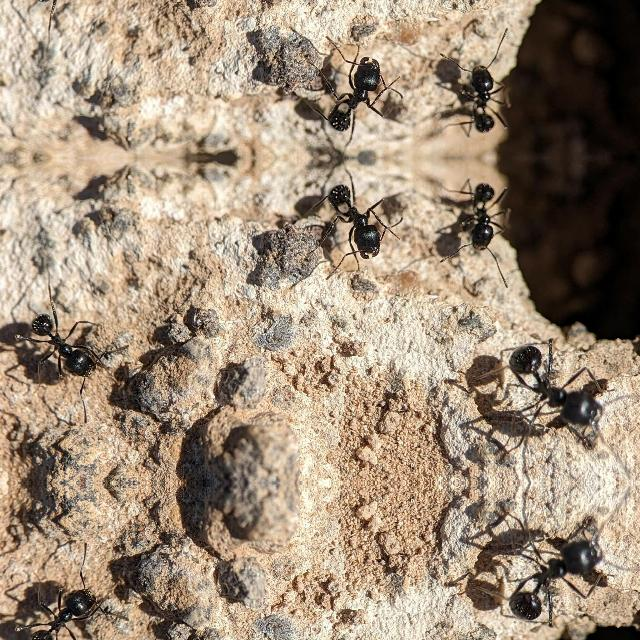Messor: (498, 324, 608, 431), (498, 534, 607, 640), (317, 181, 397, 271), (317, 43, 397, 133), (18, 305, 92, 389), (17, 576, 92, 640), (454, 176, 508, 264), (454, 51, 508, 138)
